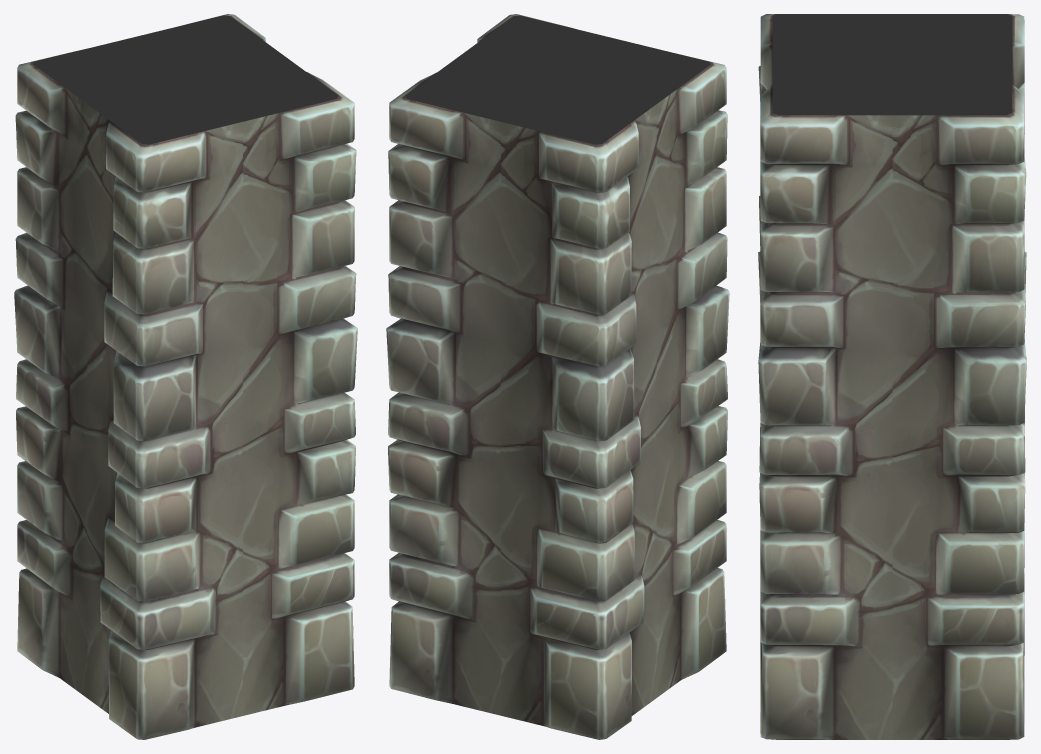
File: WallSection_B.fbx
3 views of the same model, side by side, from view 1: azimuth 30°, elevation 25°; view 2: azimuth 150°, elevation 25°; view 3: azimuth 270°, elevation 25° (orthographic). The views are drawn at different scales.
Parts seen in each view (by area): view 1: WallSection_B; view 2: WallSection_B; view 3: WallSection_B.
Part boxes in pixels (x1,y1,x2,y2): WallSection_B: (14, 14, 357, 739); WallSection_B: (386, 14, 729, 739); WallSection_B: (758, 14, 1026, 739).
Bounding box in the file's own units: 823 × 2112 × 823.
